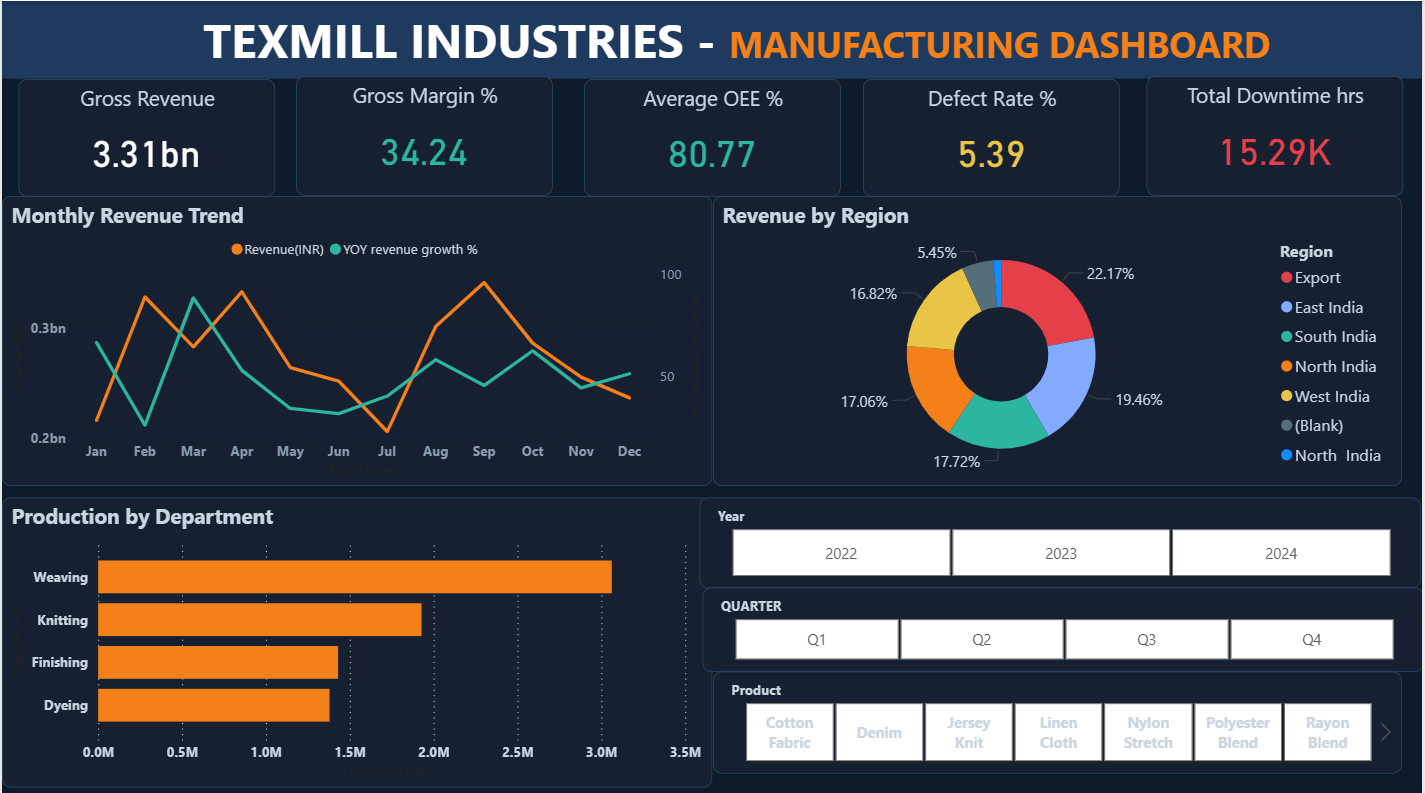

The page's visual inventory and layout, read from the dashboard file:
{"tool":"powerbi","page":{"name":"Executive Summary","canvas":[1280,720],"ordinal":0},"visuals":[{"type":"textbox","box":[0,0,1279.5,69.7],"z":0},{"type":"card","title":"Gross Margin %","fields":{"Values":["_Measure.Gross_margin %"]},"box":[264.4,68.1,231.2,107.7],"z":1000},{"type":"card","title":"Gross Revenue","fields":{"Values":["_Measure.Total_revenue"]},"box":[14.3,69.7,231.2,106.1],"z":2000},{"type":"card","title":"Average OEE %","fields":{"Values":["_Measure.Avg OEE %"]},"box":[524.1,69.7,231.2,106.1],"z":3000},{"type":"card","title":"Defect Rate %","fields":{"Values":["_Measure.Defect Rate %"]},"box":[775.9,69.7,231.2,106.1],"z":4000},{"type":"card","title":"Total Downtime hrs","fields":{"Values":["_Measure.Total Downtime"]},"box":[1030.9,68.1,231.2,107.7],"z":5000},{"type":"lineChart","title":"Monthly Revenue Trend","fields":{"Y2":["_Measure.YOY revenue growth %"],"Y":["_Measure.Total_revenue"],"Category":["data Table.Month Name"]},"box":[0,175.8,640.3,261.3],"z":6000},{"type":"donutChart","title":"Revenue by Region","fields":{"Category":["Sales_Data.Region"],"Y":["_Measure.Total_revenue"]},"box":[640.3,175.8,621,261.3],"z":7000},{"type":"clusteredBarChart","title":"Production by Department","fields":{"Category":["Production_Data.Department"],"Y":["_Measure.Total Production"]},"box":[0,447,640,261],"z":8000},{"type":"slicer","fields":{"Values":["data Table.Year"]},"box":[629,446.8,650,82.3],"z":9000},{"type":"slicer","fields":{"Values":["data Table.QUARTER"]},"box":[630.6,529,650,75.8],"z":10000},{"type":"slicer","fields":{"Values":["Product_Table.Product"]},"box":[640.3,604.8,621,91.9],"z":11000}]}

Visuals, with their boxes in screenshot pixels (x1, y1, x2, y2), scaled from the page's 1280x720 canvas onto the 1425x793 screenshot:
textbox: box(0, 0, 1424, 77)
"Gross Margin %" card: box(294, 75, 552, 194)
"Gross Revenue" card: box(16, 77, 273, 194)
"Average OEE %" card: box(583, 77, 841, 194)
"Defect Rate %" card: box(864, 77, 1121, 194)
"Total Downtime hrs" card: box(1148, 75, 1405, 194)
"Monthly Revenue Trend" lineChart: box(0, 194, 713, 481)
"Revenue by Region" donutChart: box(713, 194, 1404, 481)
"Production by Department" clusteredBarChart: box(0, 492, 712, 780)
slicer - data Table.Year: box(700, 492, 1424, 583)
slicer - data Table.QUARTER: box(702, 583, 1424, 666)
slicer - Product_Table.Product: box(713, 666, 1404, 767)
